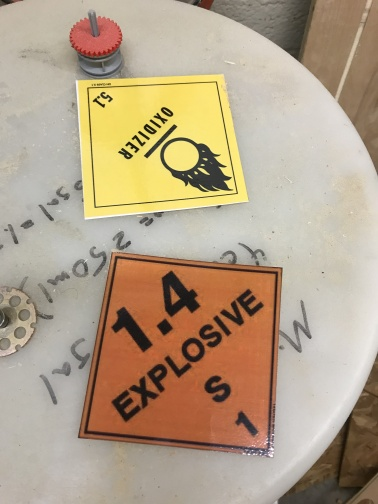Explosive: (78, 250, 282, 458)
Oxidizer: (79, 74, 250, 216)
